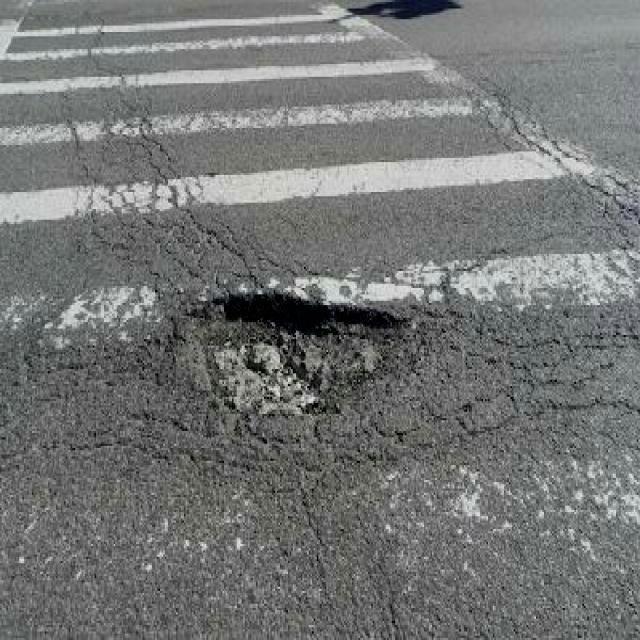Pothole: (142, 286, 426, 425)
